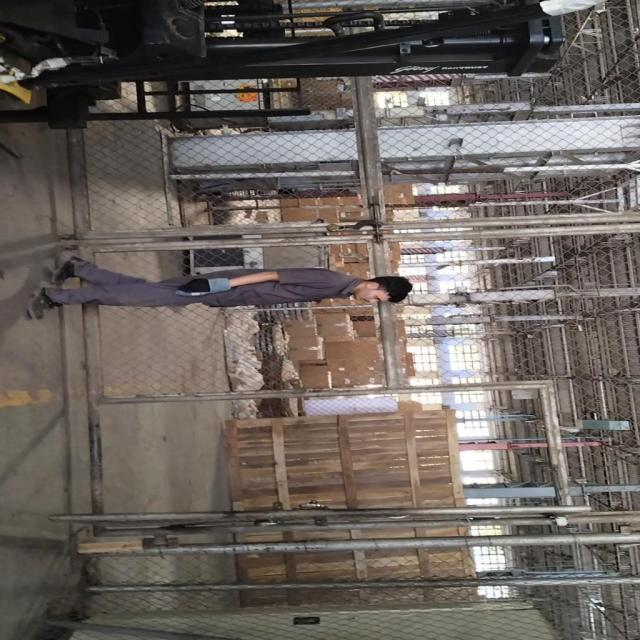Gloves-Detection: (173, 269, 232, 307)
